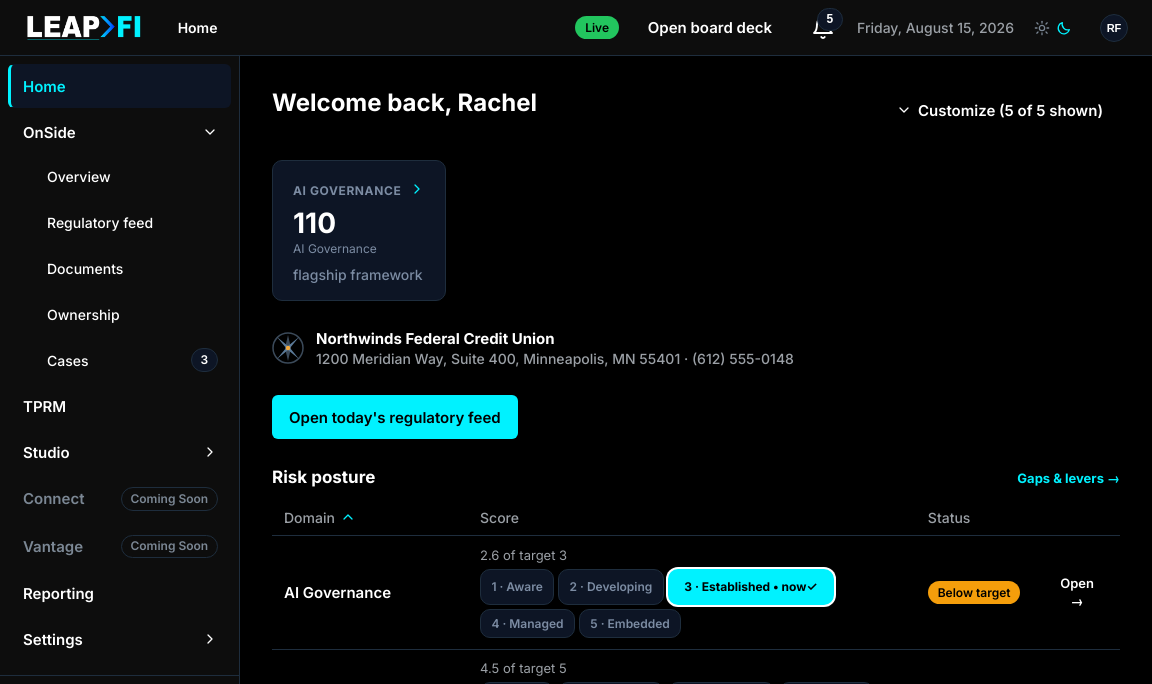
Test: B-dead-interactions-11 — Connect group header navigates AND expands; chevron toggles only (base 803) › non-navigable group headers (OnSide) keep the original toggle-on-press contract
The image size is (1152, 684).
Click the button "OnSide": (120, 132) 8,110 -> 231,154
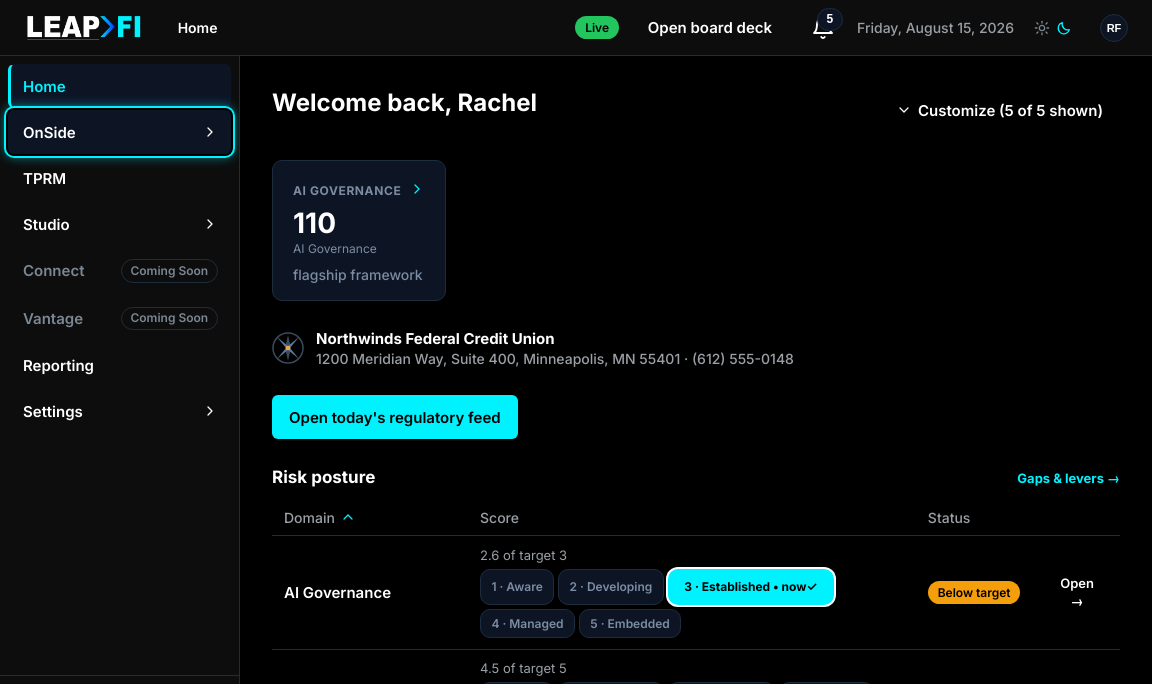
Expected: the text "Home" in the row of "Live" is shown, 178,19 -> 218,36
Now the button "OnSide" is collapsed
Click the button "OnSide": (120, 132) 8,110 -> 231,154
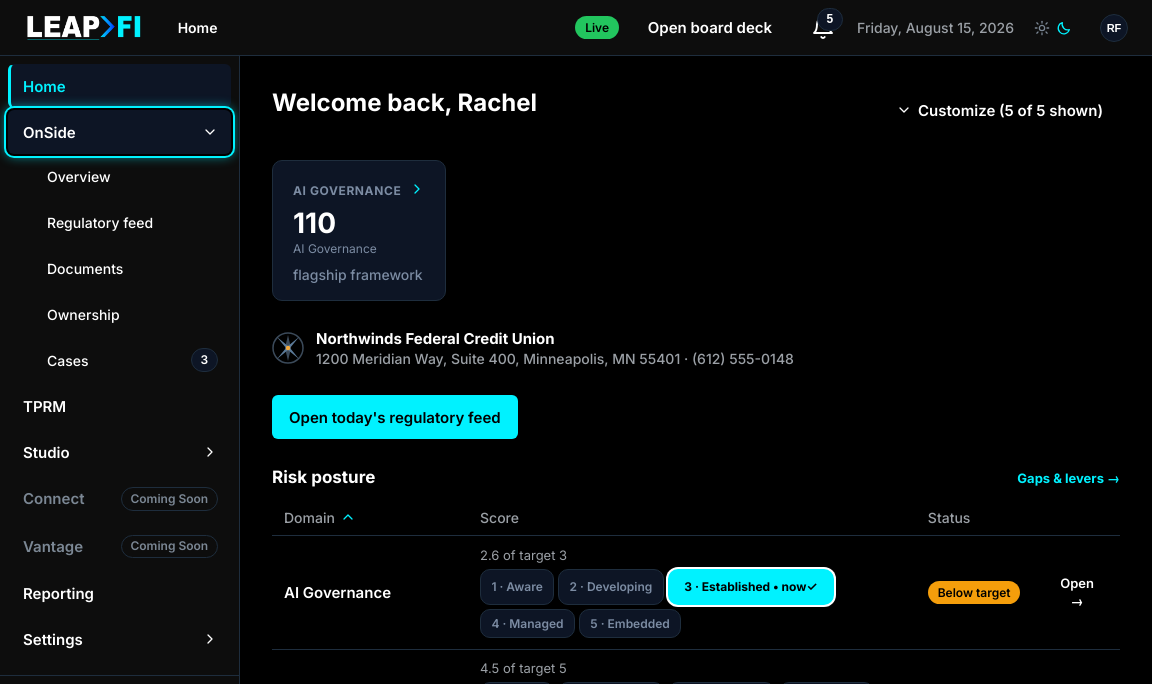
Expected: the text "Home" in the row of "Live" is shown, 178,19 -> 218,36
Now the button "OnSide" is expanded, box 8,110 -> 231,154
